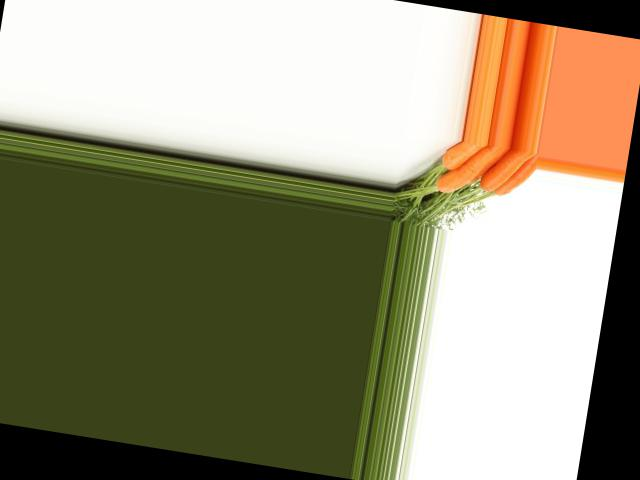carrot: (440, 137, 484, 176)
